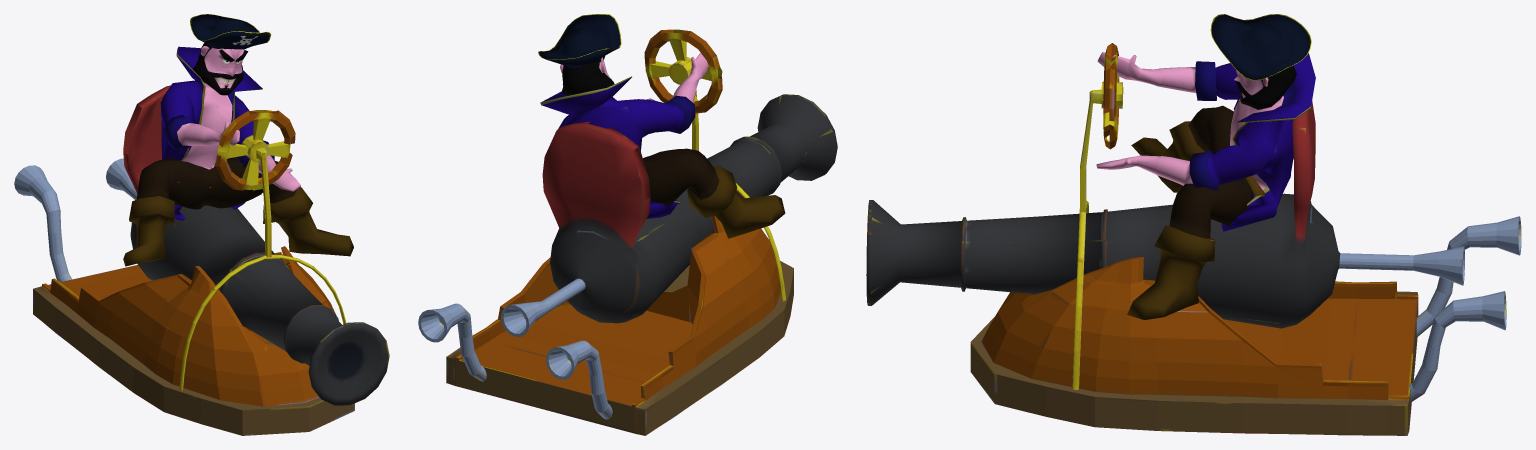
The model's file is pirataGiroDER_000499.obj.
3 renders of one model, left to right at view 1: azimuth 30°, elevation 25°; view 2: azimuth 150°, elevation 25°; view 3: azimuth 270°, elevation 25°, orthographic. The views are drawn at different scales.
Visible parts, largest first — view 1: carro_pirata, Pirata_PirataH; view 2: carro_pirata, Pirata_PirataH; view 3: carro_pirata, Pirata_PirataH.
Boxes of the visible parts, x1=… form: carro_pirata: x1=14, y1=85, x2=389, y2=435; Pirata_PirataH: x1=123, y1=14, x2=353, y2=266; carro_pirata: x1=418, y1=29, x2=837, y2=435; Pirata_PirataH: x1=538, y1=14, x2=785, y2=238; carro_pirata: x1=866, y1=43, x2=1521, y2=435; Pirata_PirataH: x1=1096, y1=14, x2=1315, y2=319.
Bounding box in the file's own units: 5.7 × 7.62 × 12.1.
2 materials, 2 textured.
